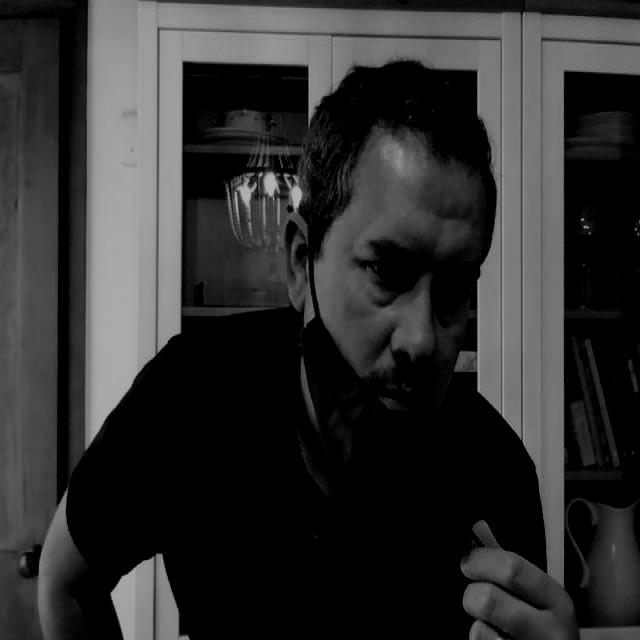real: (284, 114, 490, 442)
